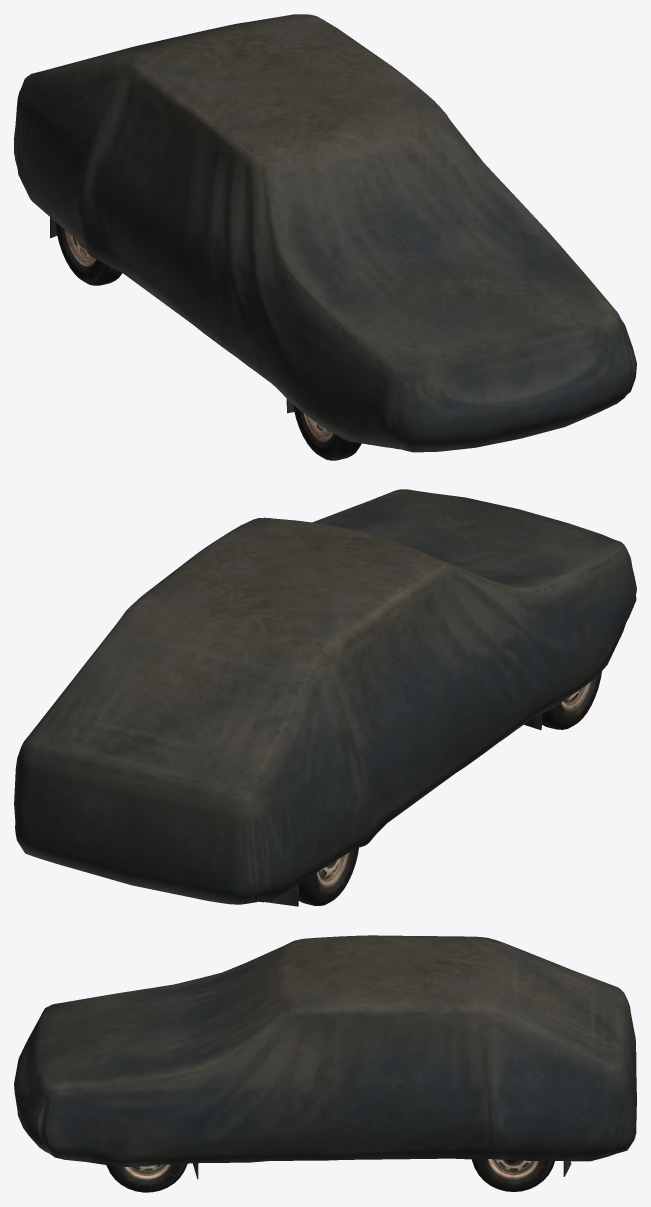
File: covered-car.glb
The picture shows the model from 3 angles, top to bottom: view 1: azimuth 30°, elevation 25°; view 2: azimuth 150°, elevation 25°; view 3: azimuth 270°, elevation 25°; orthographic projection. The views are drawn at different scales.
Parts seen in each view (by area): view 1: covered_car_wheel_01; view 2: covered_car_wheel_01; view 3: covered_car_wheel_01.
Part boxes in pixels (x1=…): covered_car_wheel_01: x1=14, y1=14, x2=636, y2=460; covered_car_wheel_01: x1=14, y1=489, x2=636, y2=906; covered_car_wheel_01: x1=14, y1=935, x2=636, y2=1192.
Size of the model in its own units: 1.79 by 1.41 by 4.38.
Materials: 1 (1 with a texture image).
